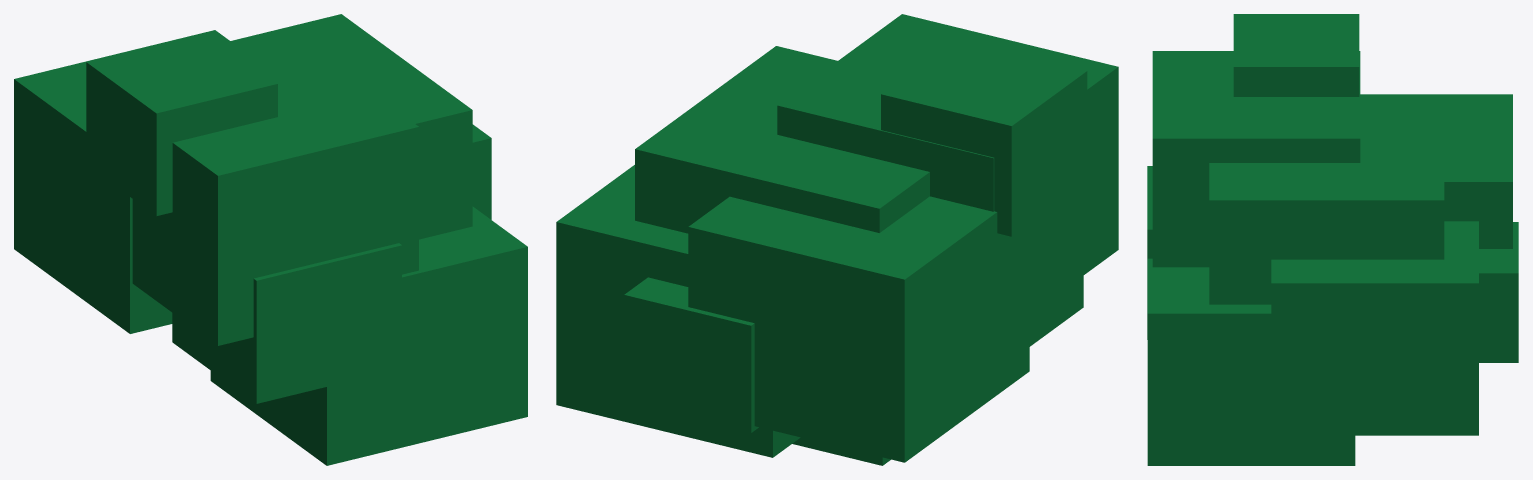
Rendered from Bush2.fbx.
The picture shows the model from 3 angles, left to right: view 1: azimuth 30°, elevation 25°; view 2: azimuth 150°, elevation 25°; view 3: azimuth 270°, elevation 25°; orthographic projection. The views are drawn at different scales.
Visible parts, largest first — view 1: Cube.013; view 2: Cube.013; view 3: Cube.013.
Boxes of the visible parts, x1=… form: Cube.013: x1=14, y1=14, x2=527, y2=465; Cube.013: x1=556, y1=14, x2=1118, y2=465; Cube.013: x1=1147, y1=14, x2=1518, y2=465.
Size of the model in its own units: 3.14 by 2.92 by 3.16.
